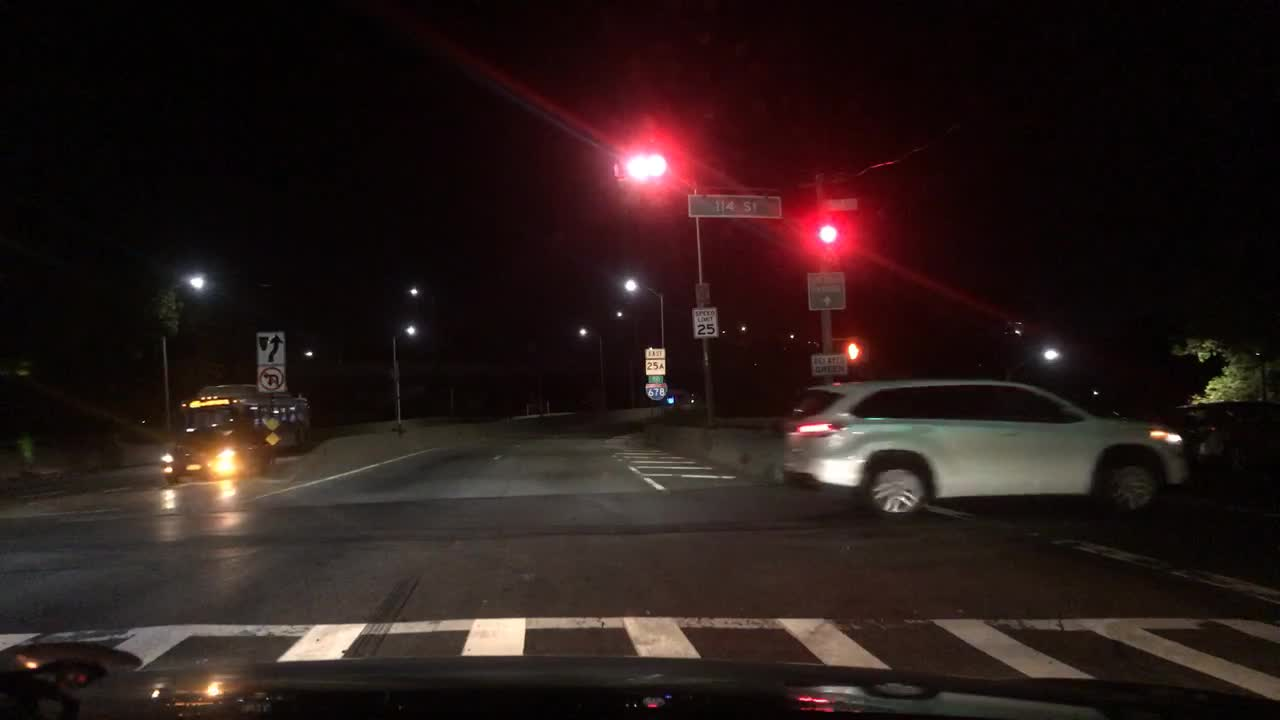car: (777, 375, 1186, 523)
traffic light: (626, 135, 666, 184), (810, 211, 846, 258), (839, 335, 858, 362)
traffic sign: (683, 192, 780, 220), (805, 270, 846, 312), (255, 331, 283, 366), (692, 307, 719, 337), (811, 353, 846, 376), (259, 365, 283, 393), (643, 347, 665, 373), (821, 195, 859, 210), (265, 417, 281, 445), (646, 382, 666, 401)
truck: (162, 382, 305, 483)
